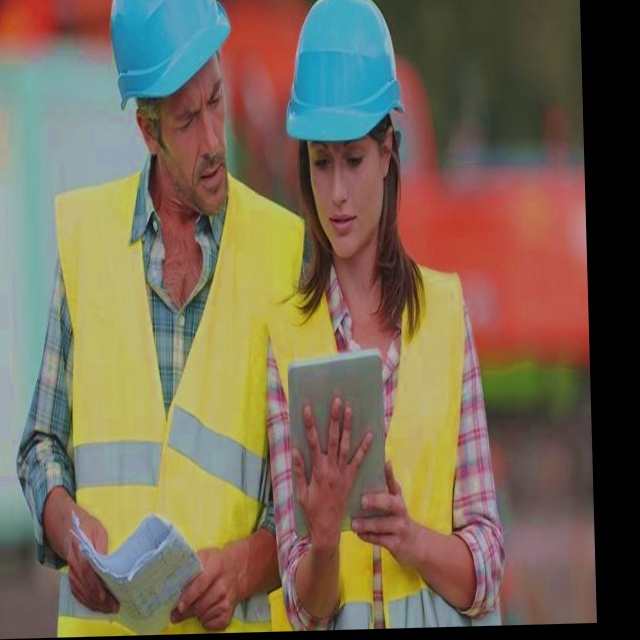Con_Casco: (297, 0, 404, 241)
Con_Chaleco: (45, 171, 285, 637)
